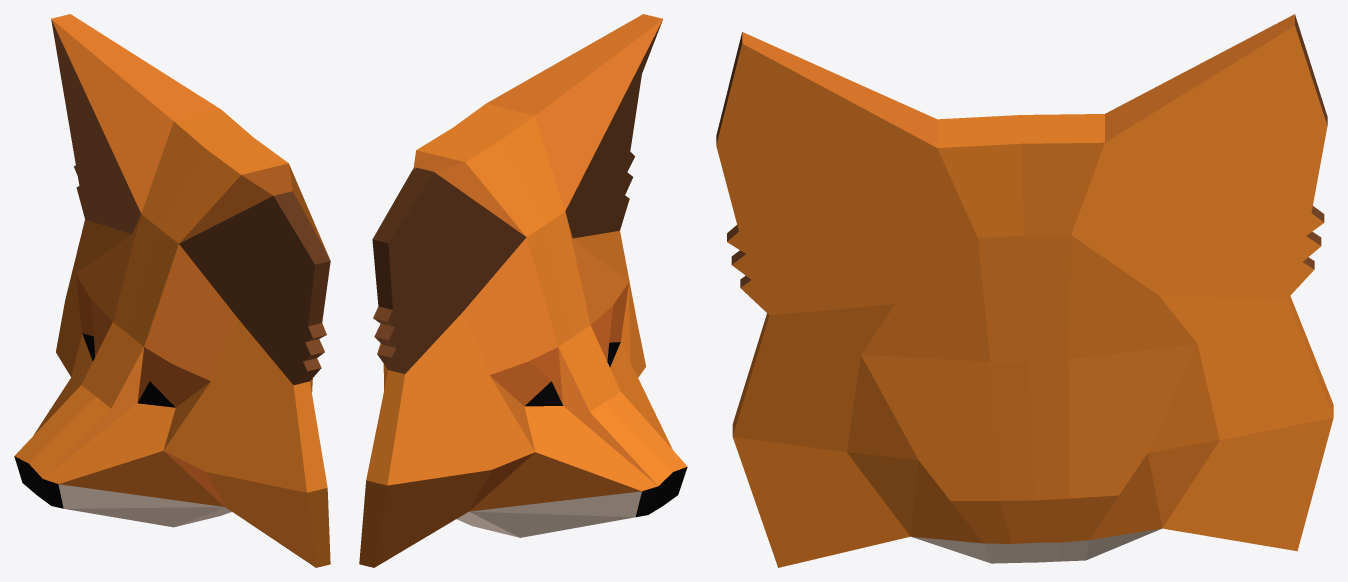
The model's file is Metamask.glb.
3 renders of one model, left to right at view 1: azimuth 30°, elevation 25°; view 2: azimuth 150°, elevation 25°; view 3: azimuth 270°, elevation 25°, orthographic. The views are drawn at different scales.
Parts seen in each view (by area): view 1: MyMask; view 2: MyMask; view 3: MyMask.
Part boxes in pixels (x1,y1,x2,y2): MyMask: (14,14,330,567); MyMask: (359,14,687,567); MyMask: (716,14,1333,567).
Bounding box in the file's own units: 1 × 1.75 × 1.88.
1 material, 1 textured.
